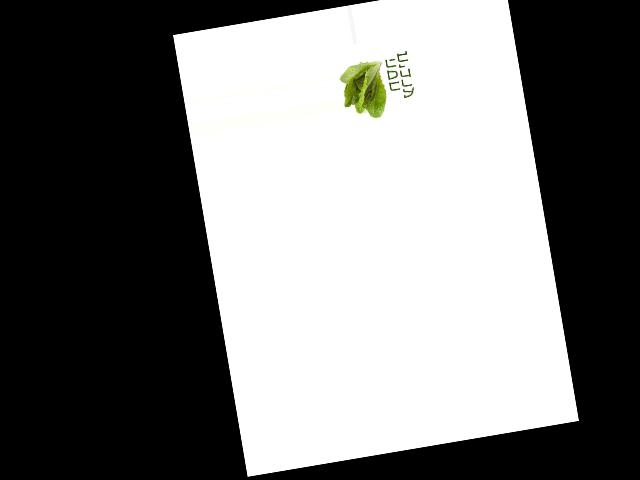lettuce: (337, 54, 395, 123)
